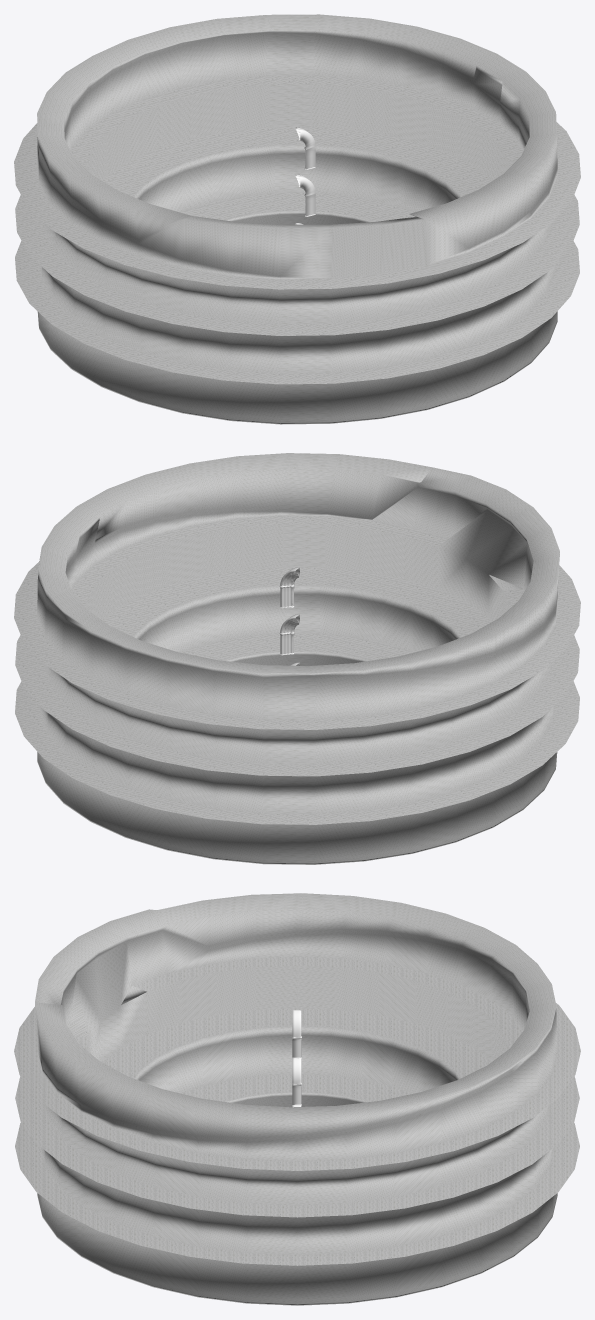
File: ColiseoHellgateanimado.glb
3 renders of one model, top to bottom at view 1: azimuth 30°, elevation 25°; view 2: azimuth 150°, elevation 25°; view 3: azimuth 270°, elevation 25°, orthographic.
Visible parts, largest first — view 1: Cylinder; view 2: Cylinder, arch.003, arch.002; view 3: Cylinder.
Part boxes in pixels (x1,y1,x2,y2): Cylinder: (14, 14, 580, 424); Cylinder: (14, 453, 580, 864); arch.003: (279, 567, 299, 608); arch.002: (279, 614, 299, 655); Cylinder: (14, 893, 580, 1305).
Size of the model in its own units: 53.25 by 20.45 by 53.25.
2 materials, 1 textured.
